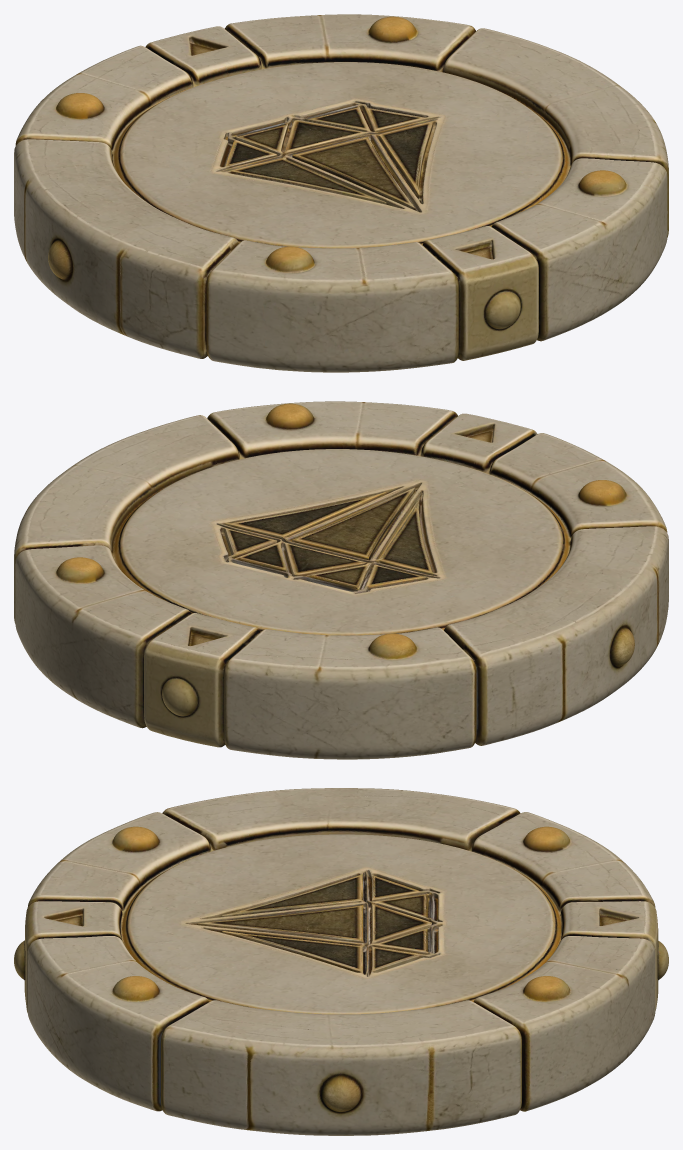
The model's file is batch2_07.glb.
The picture shows the model from 3 angles, top to bottom: view 1: azimuth 30°, elevation 25°; view 2: azimuth 150°, elevation 25°; view 3: azimuth 270°, elevation 25°; orthographic projection. The views are drawn at different scales.
Size of the model in its own units: 1.9 by 0.3199 by 1.9.
Materials: 1 (1 with a texture image).
